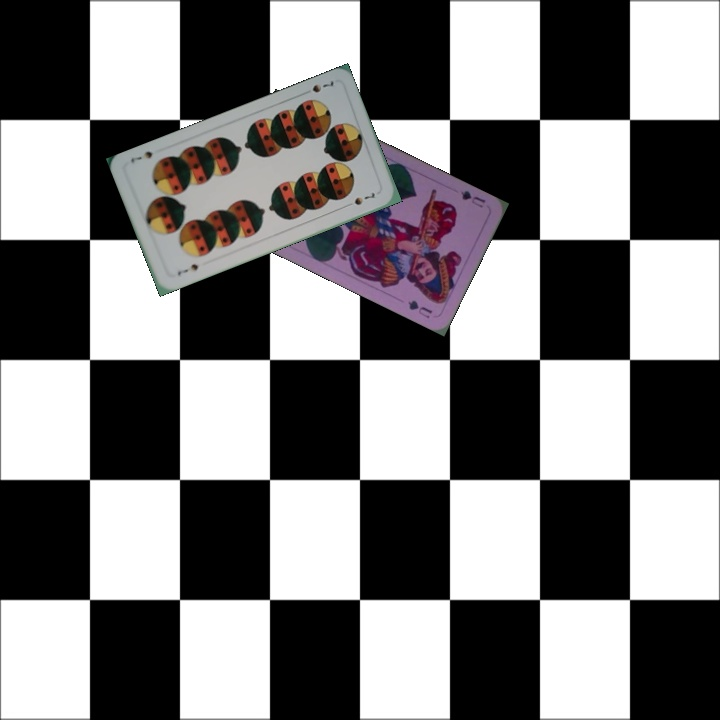GU: (457, 186, 488, 210)
S7: (308, 77, 336, 95), (173, 260, 201, 278)
